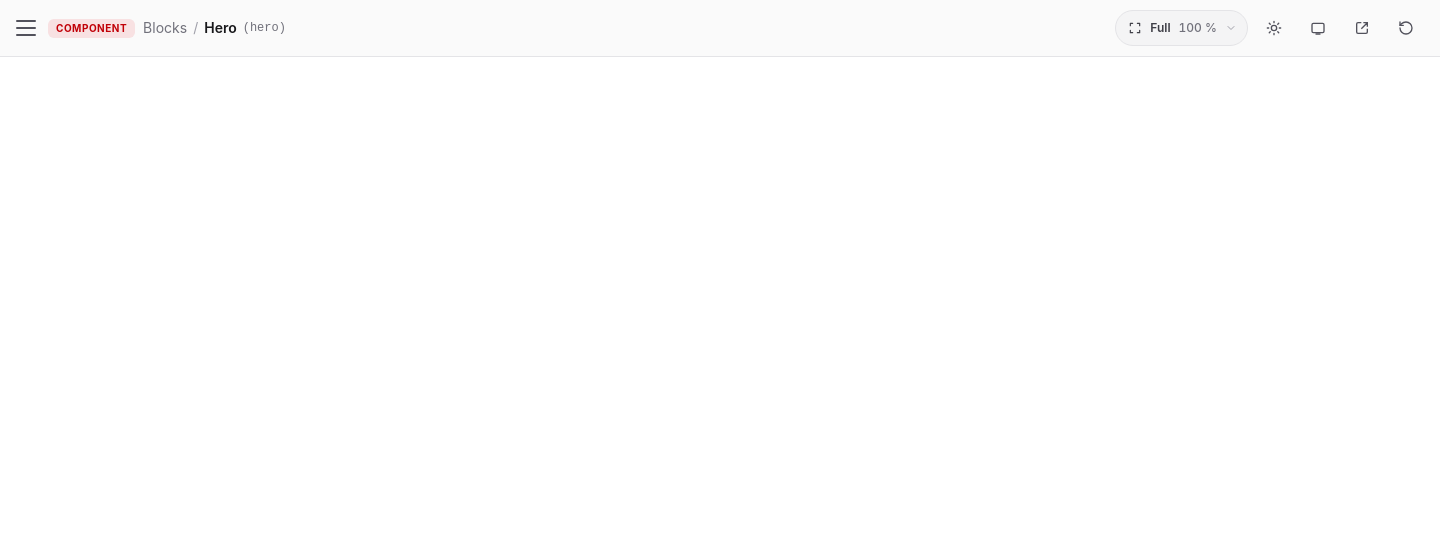
Test case: ViewportToolbar — width checklist › a click on the row shows that width alone and closes the menu
Click the button with test id "viewport-trigger" at (1182, 28), box [1115,10,1248,46]
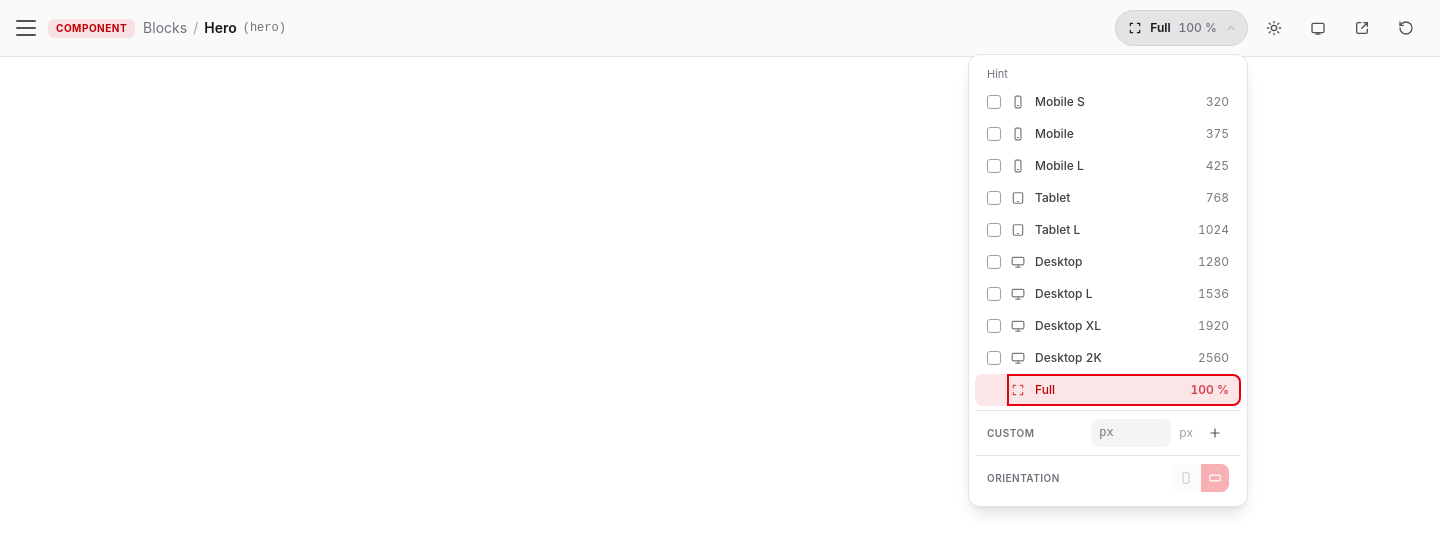
Click the menu item "Tablet 768" at (1124, 198), box [1007,182,1241,214]
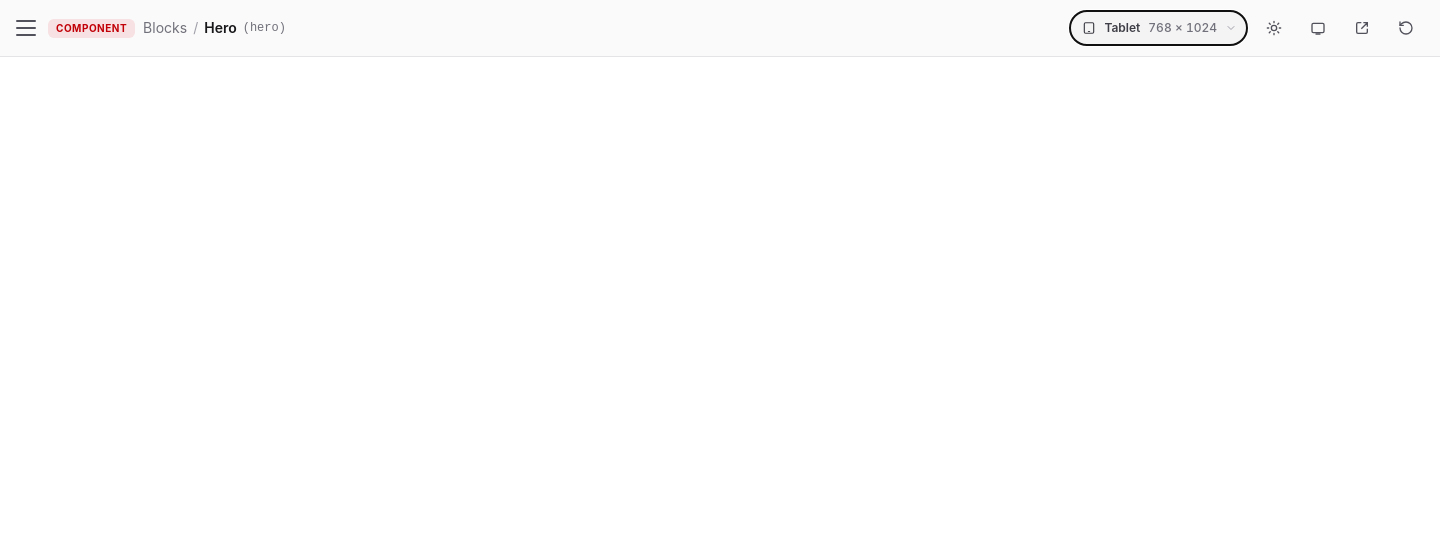
expect the element with test id "viewport-menu" is gone: met
